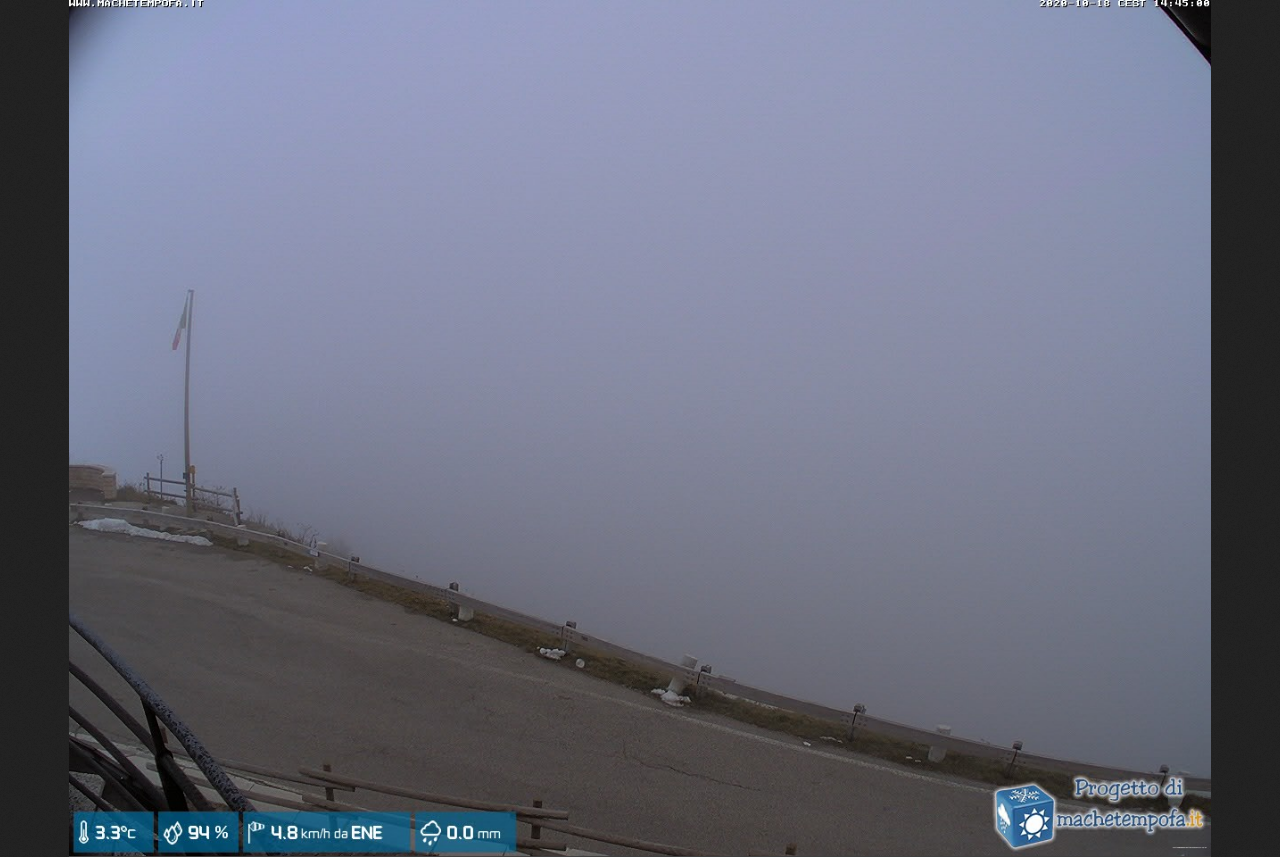no: (166, 297, 193, 355)
